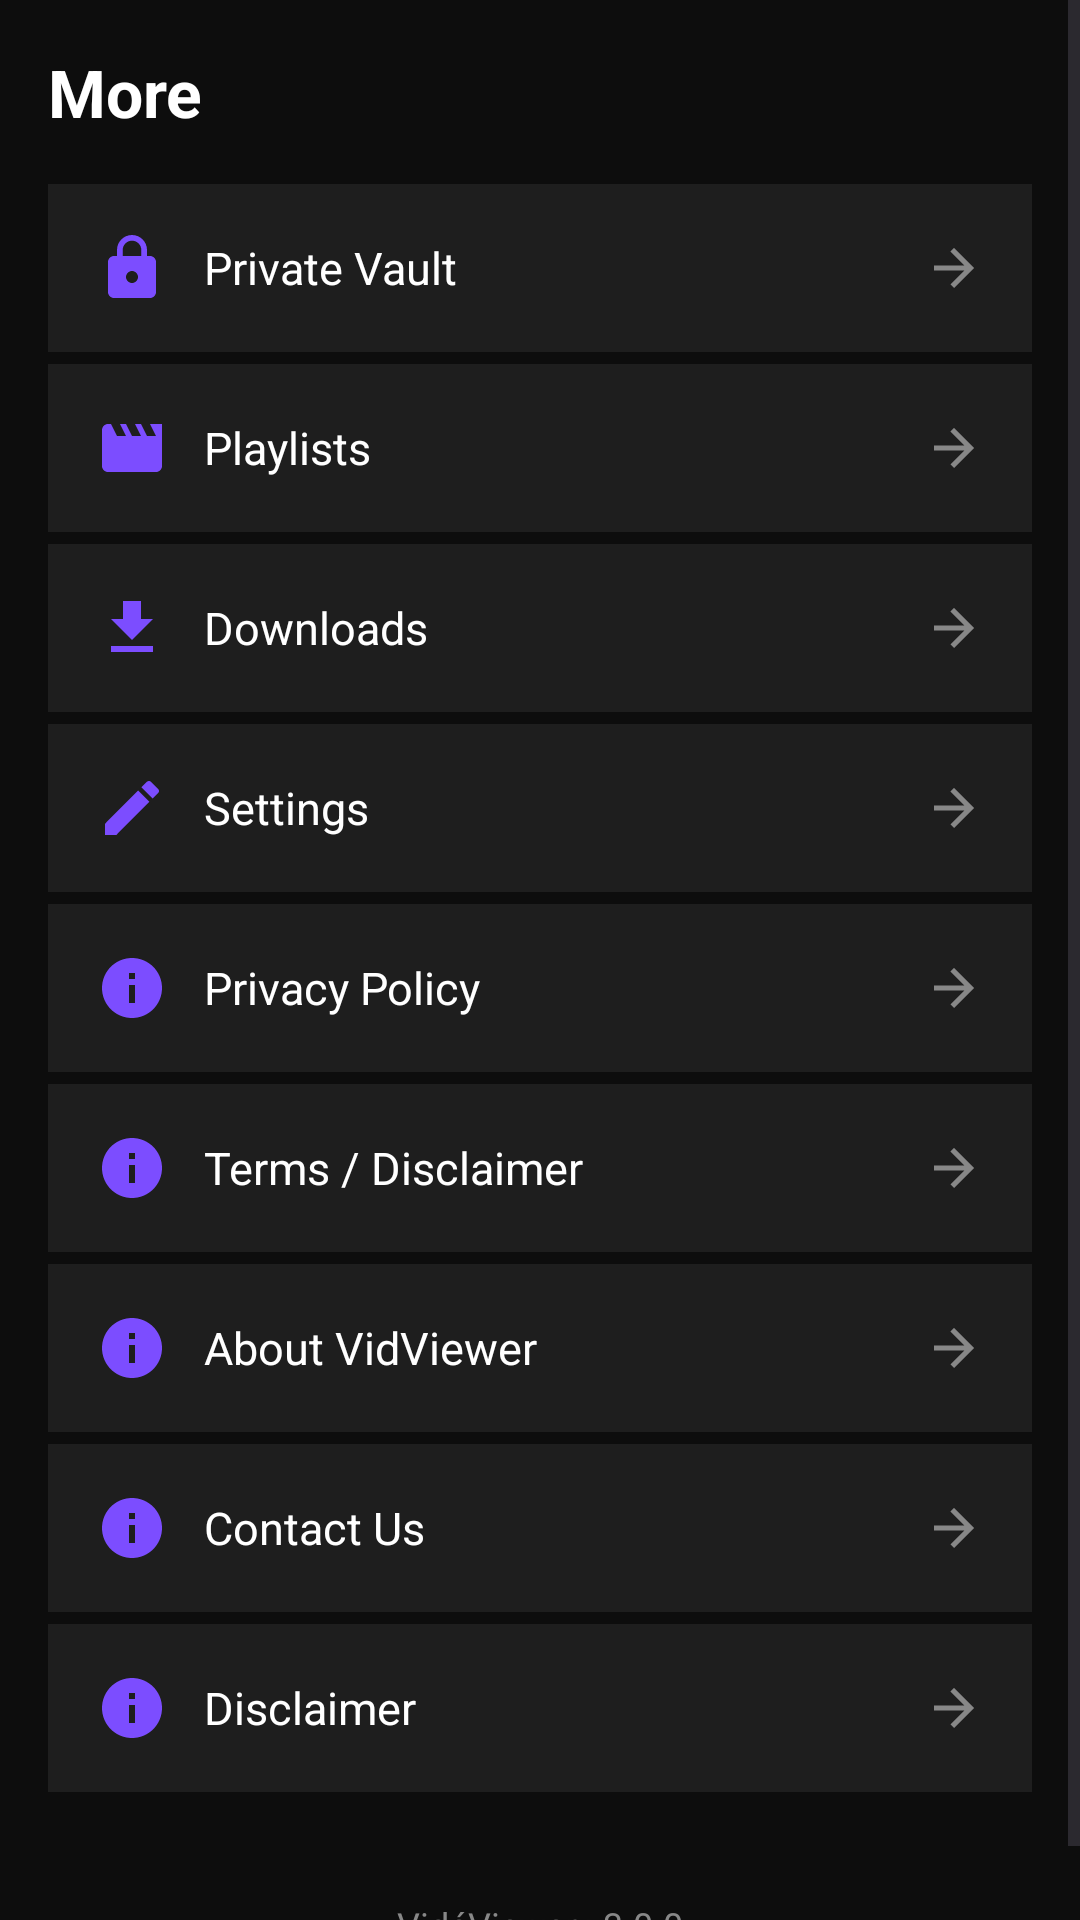

Where to tap for icons on this 1080px×1920px app screen, as (x=x, y=y):
edit: (x=132, y=808)
info: (x=132, y=988), (x=132, y=1168), (x=132, y=1348), (x=132, y=1528), (x=132, y=1708)
lock closed: (x=132, y=266)
videos: (x=132, y=448)
